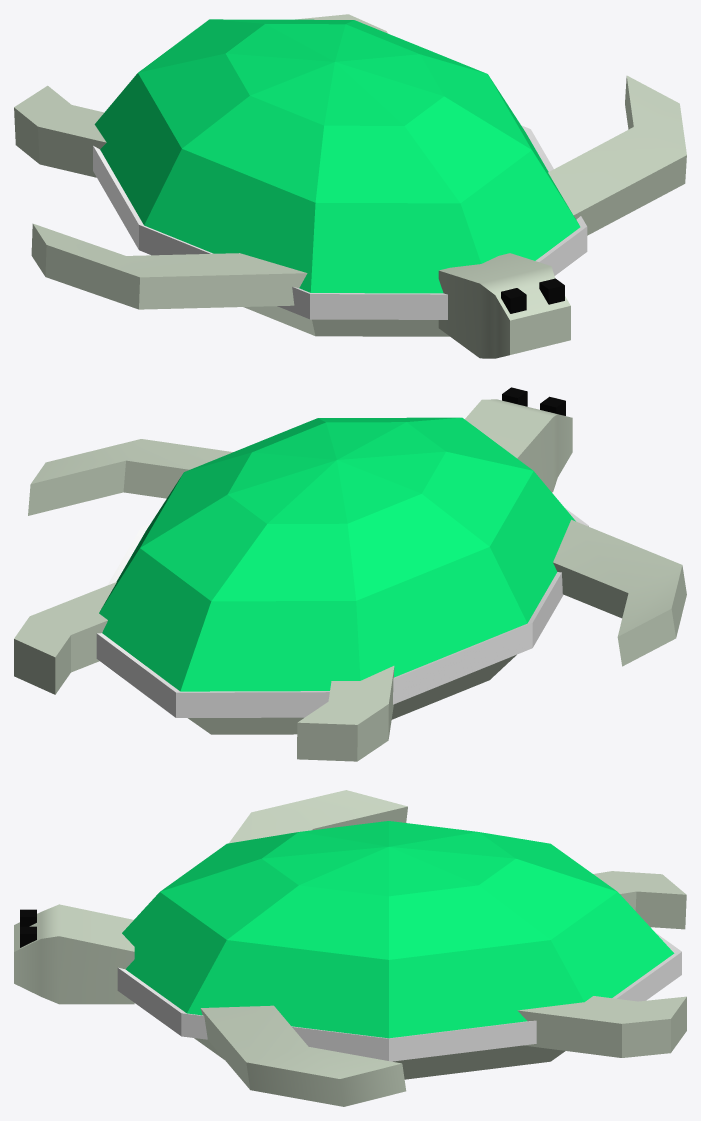
The model's file is turtle_lowpoly_tortuga.glb.
3 renders of one model, top to bottom at view 1: azimuth 30°, elevation 25°; view 2: azimuth 150°, elevation 25°; view 3: azimuth 270°, elevation 25°, orthographic. The views are drawn at different scales.
Parts seen in each view (by area): view 1: Object_3, Object_5, Object_6, Object_2, Object_4; view 2: Object_3, Object_5, Object_6, Object_2, Object_4; view 3: Object_3, Object_5, Object_6, Object_2, Object_4.
Boxes of the visible parts, x1,y1,x2,y2 form: Object_3: (94,19,580,293); Object_5: (14,14,686,358); Object_6: (93,109,587,319); Object_2: (573,76,686,235); Object_4: (501,278,564,313); Object_3: (99,417,575,691); Object_5: (14,399,686,761); Object_6: (96,507,588,717); Object_2: (28,460,189,515); Object_4: (502,387,565,415); Object_3: (122,821,674,1038); Object_5: (14,790,686,1079); Object_6: (117,932,681,1061); Object_2: (200,1008,406,1106); Object_4: (20,909,36,947).
Bounding box in the file's own units: 3.14 × 1.03 × 3.18.
